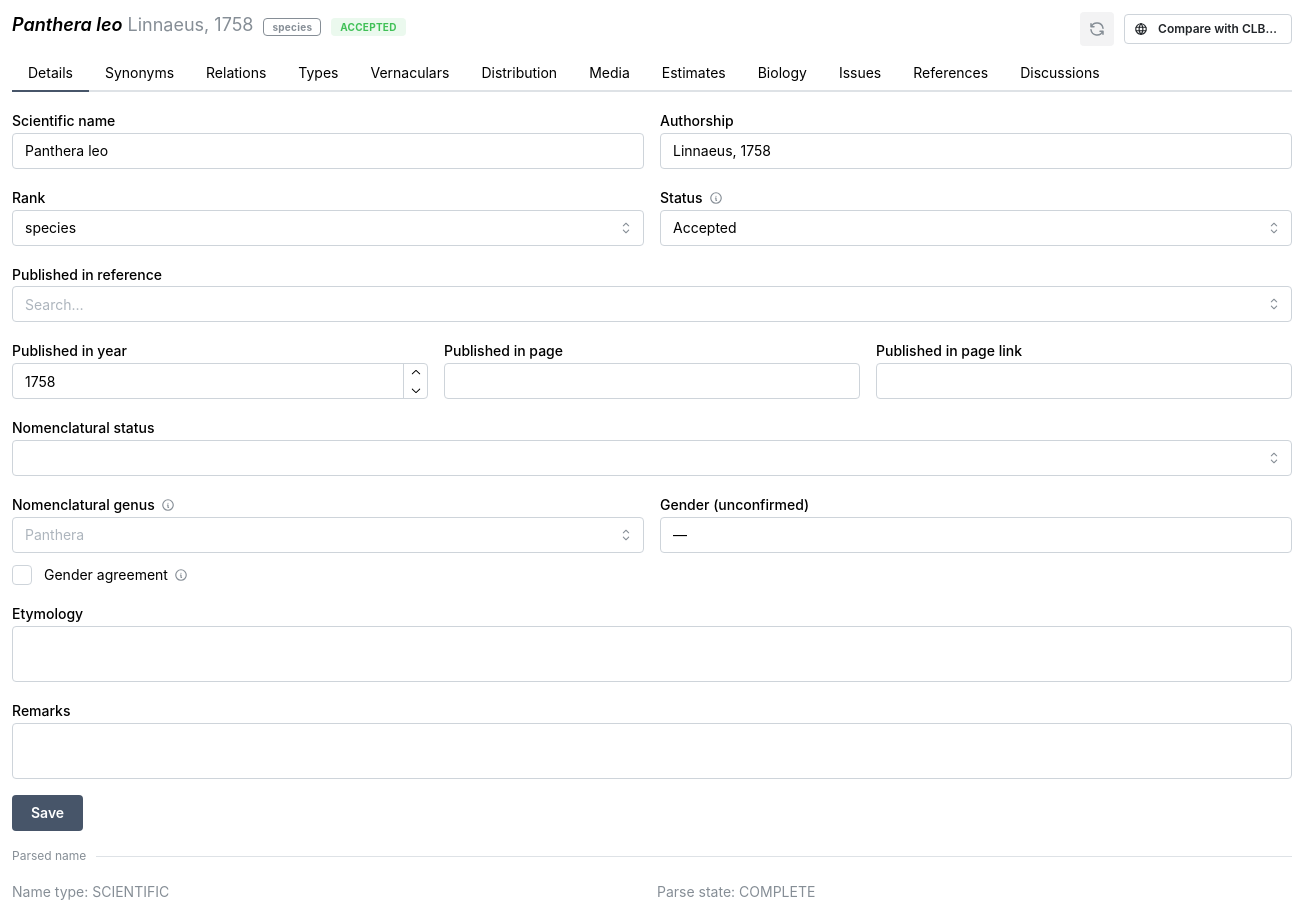
Test case: a 409 conflict shows a notice and refetches the usage
The image size is (1304, 912).
Replace the text in the field labelled "Authorship" with "someone else edited this" at (976, 151), box [660,133,1292,169]
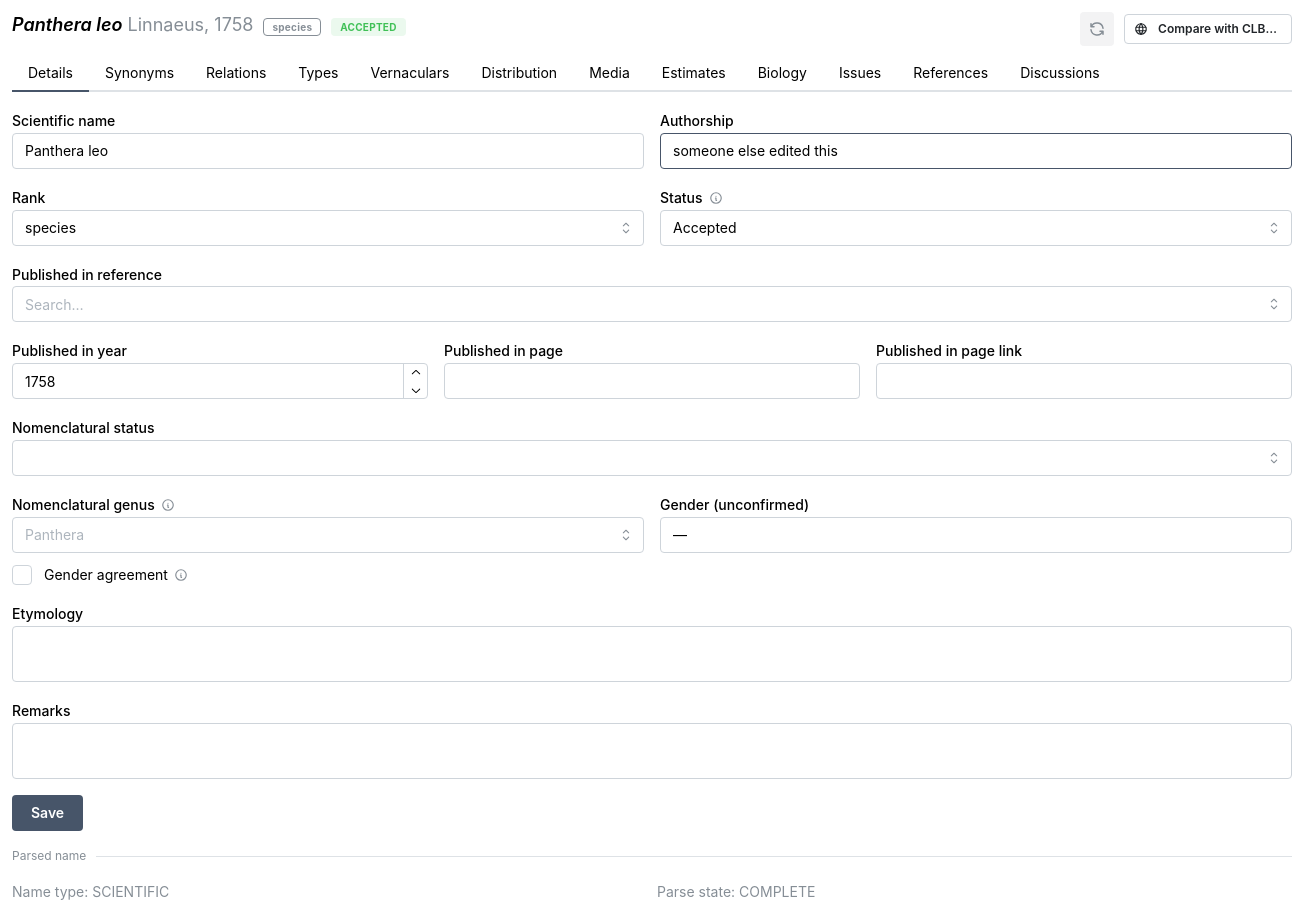
Click the button "Save" at (48, 813), box [12,795,83,831]
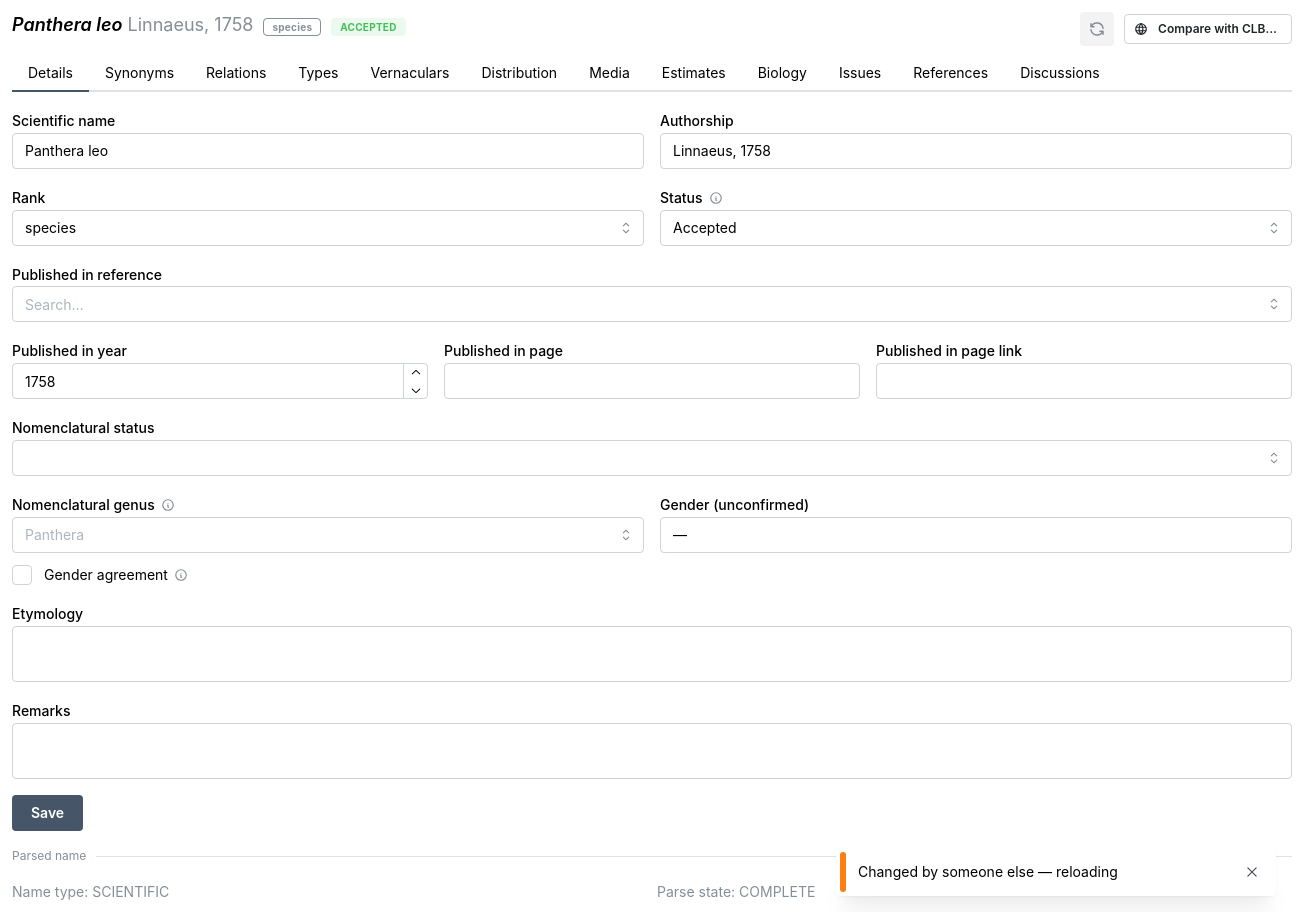
Check: the text "Changed by someone else — reloading" is shown, box [858,863,1118,880]
Check: the field labelled "Authorship" holds "Linnaeus, 1758", box [660,133,1292,169]
